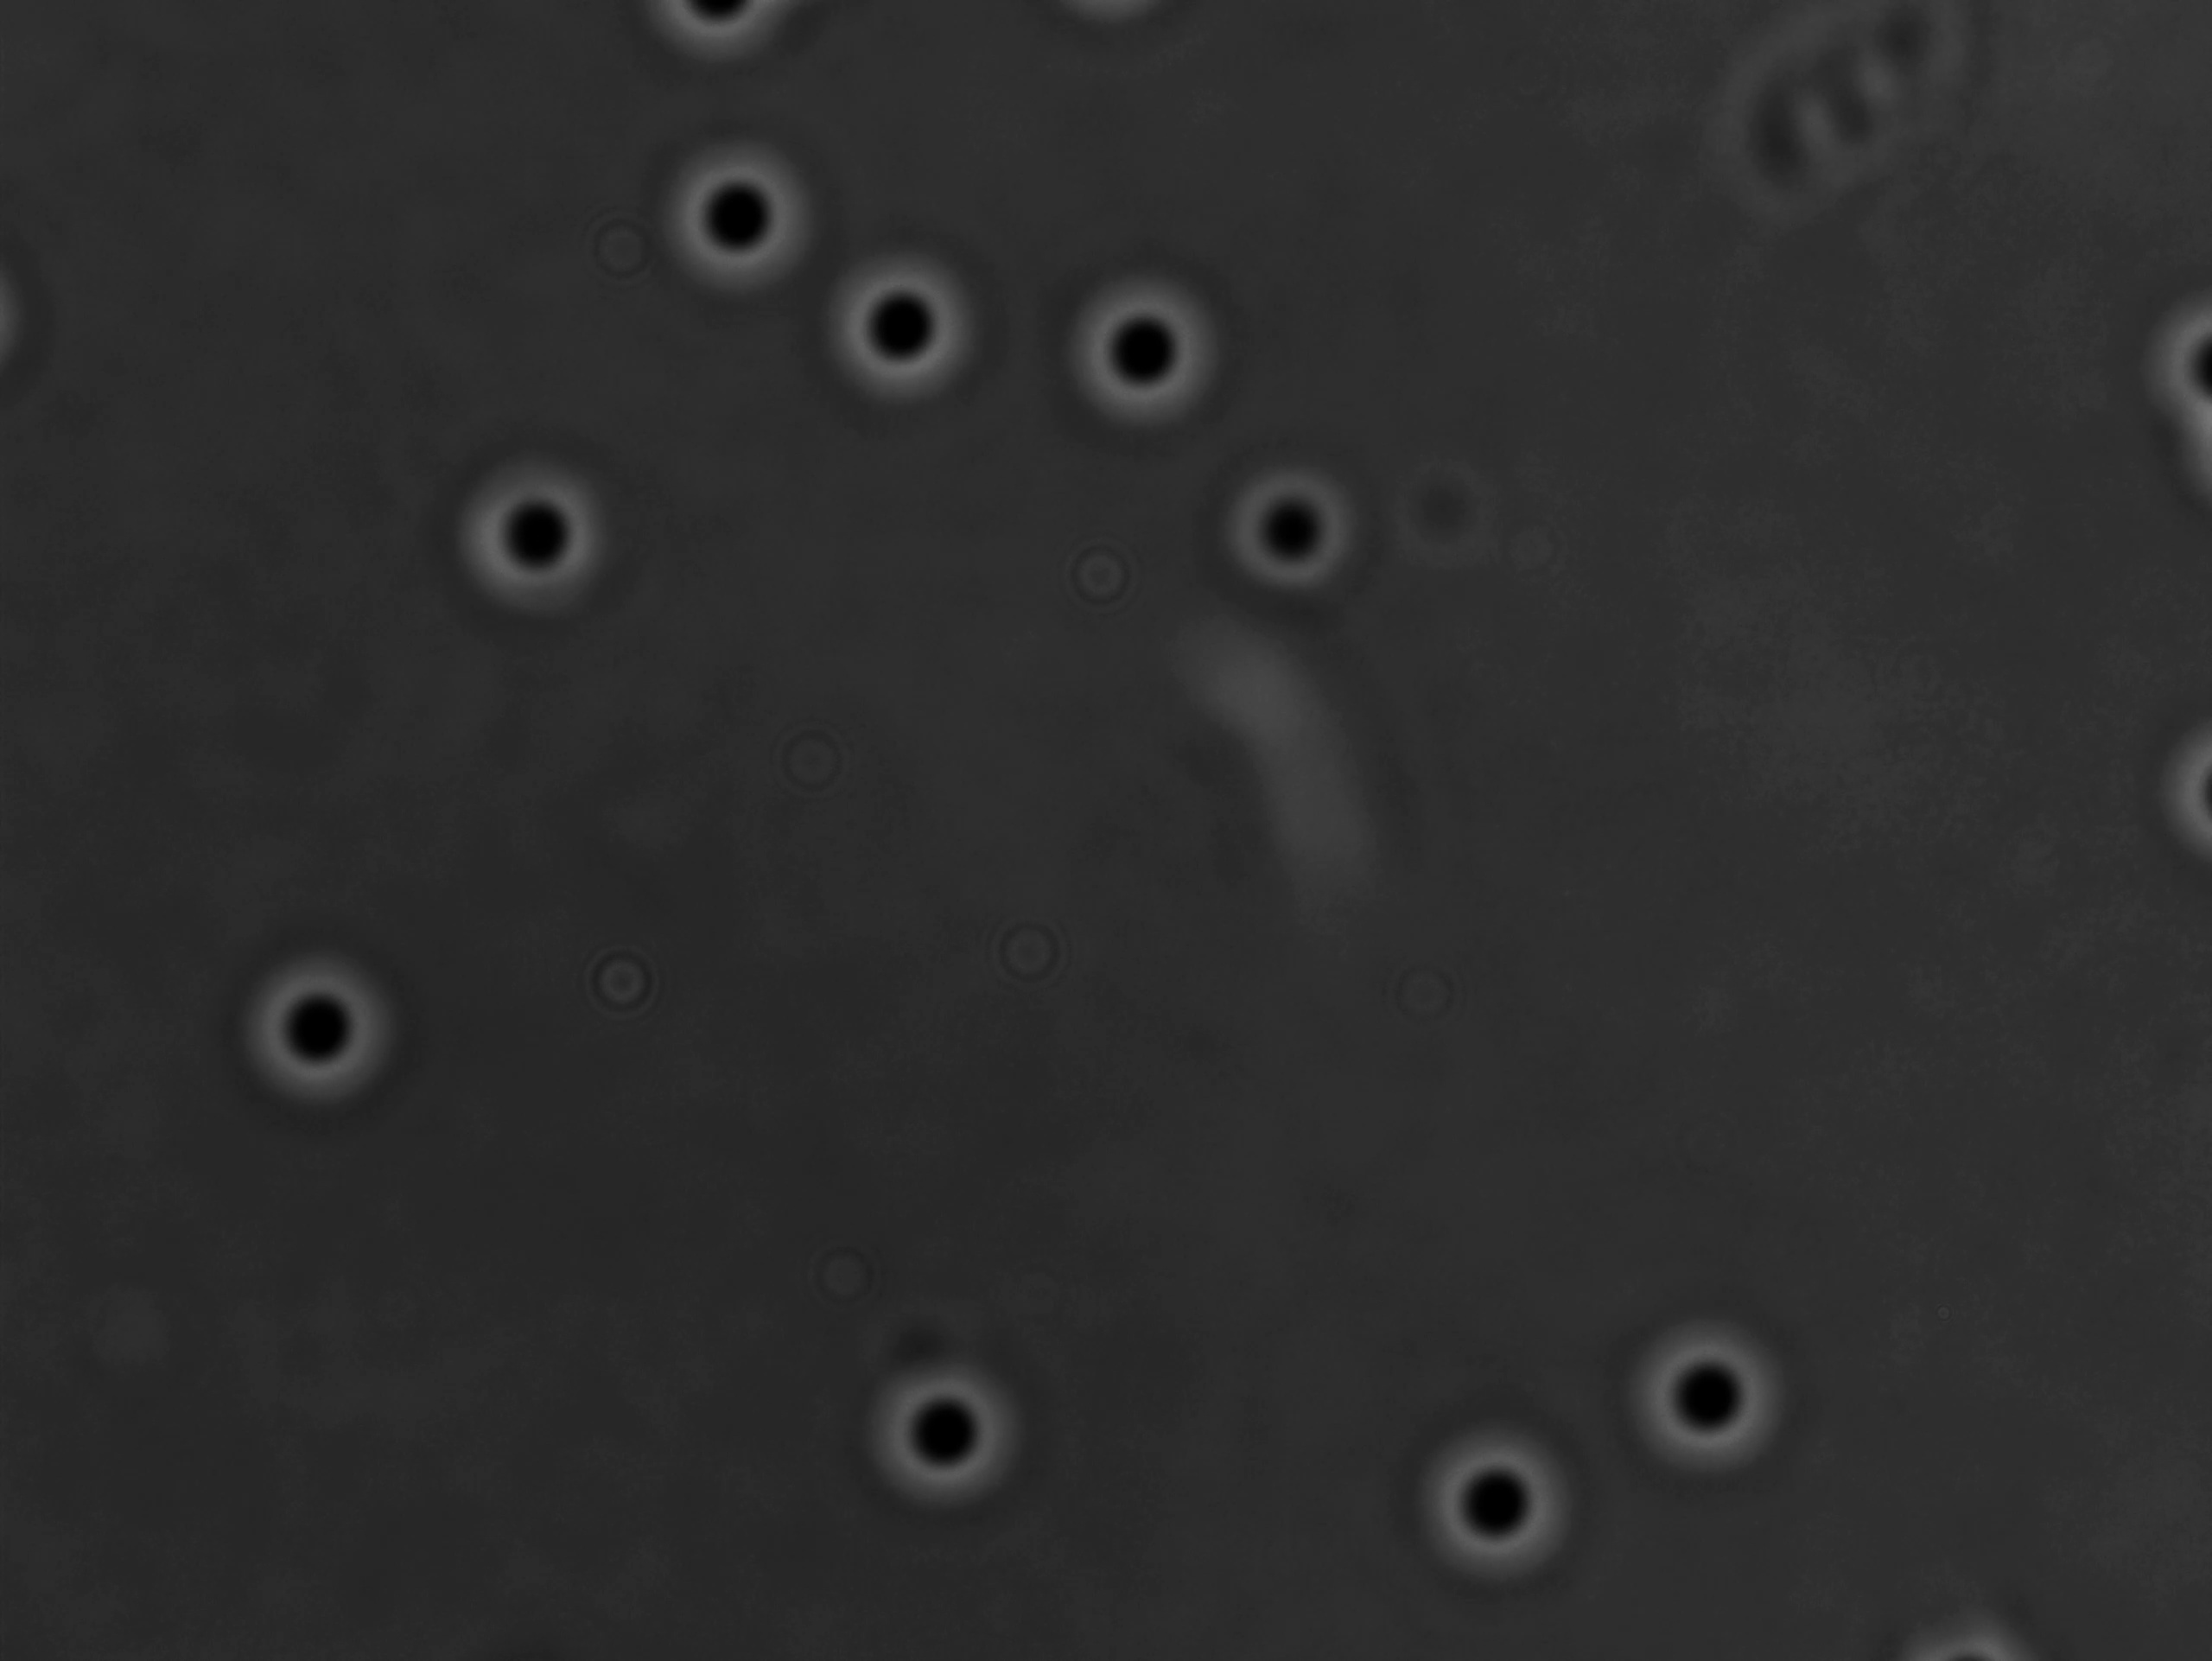depth:-80: (1584, 1277, 1813, 1500), (1394, 1405, 1596, 1602), (1047, 244, 1240, 443), (450, 450, 652, 637), (851, 1340, 1041, 1535), (644, 117, 834, 309), (234, 932, 429, 1118), (808, 244, 994, 434), (1198, 431, 1378, 614)
